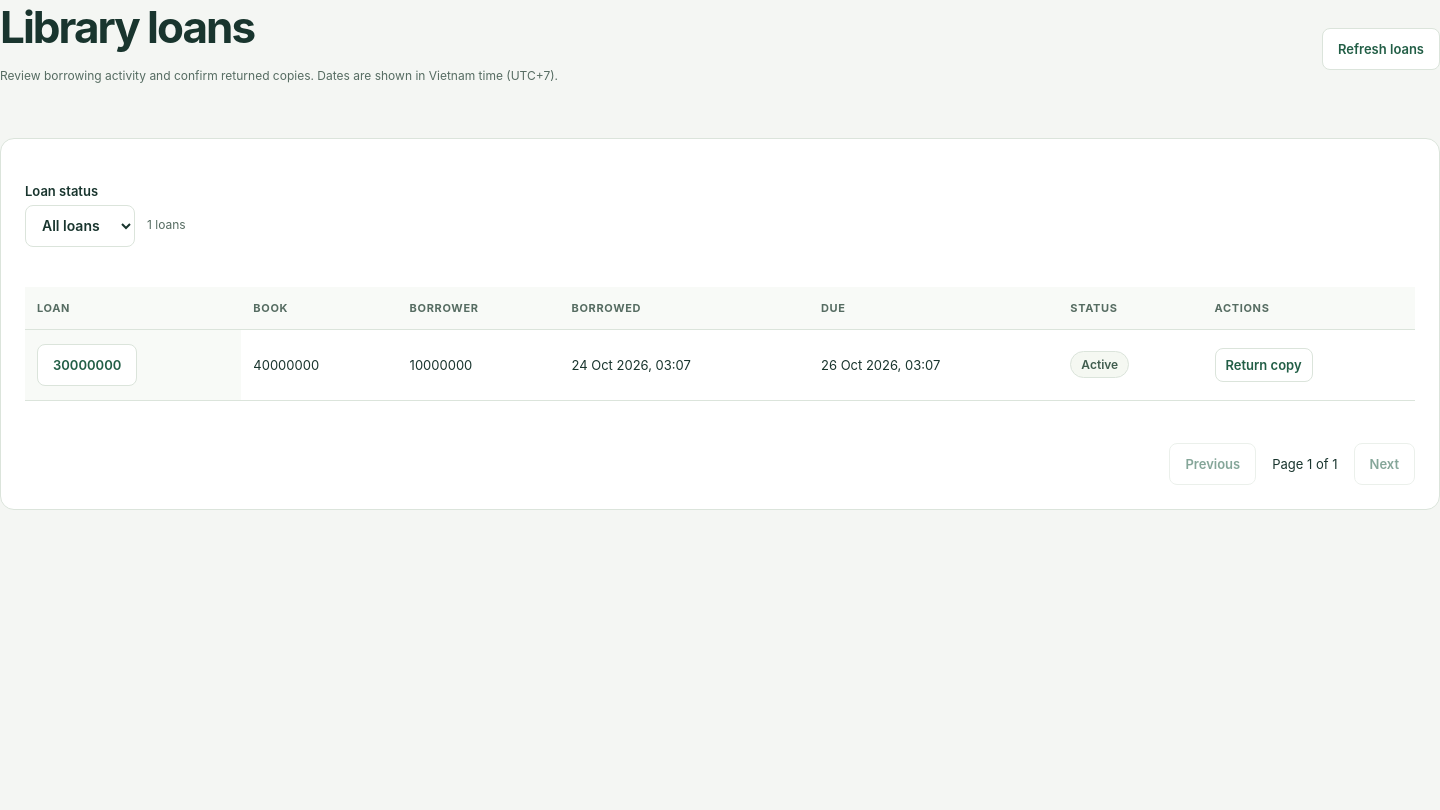
Test: loan history › keeps an unsuccessful return visible and does not retry the mutation automatically
Step 1. Click the button with aria-label "Return loan 30000000" → (1264, 365), box left=1214, top=348, right=1313, bottom=382
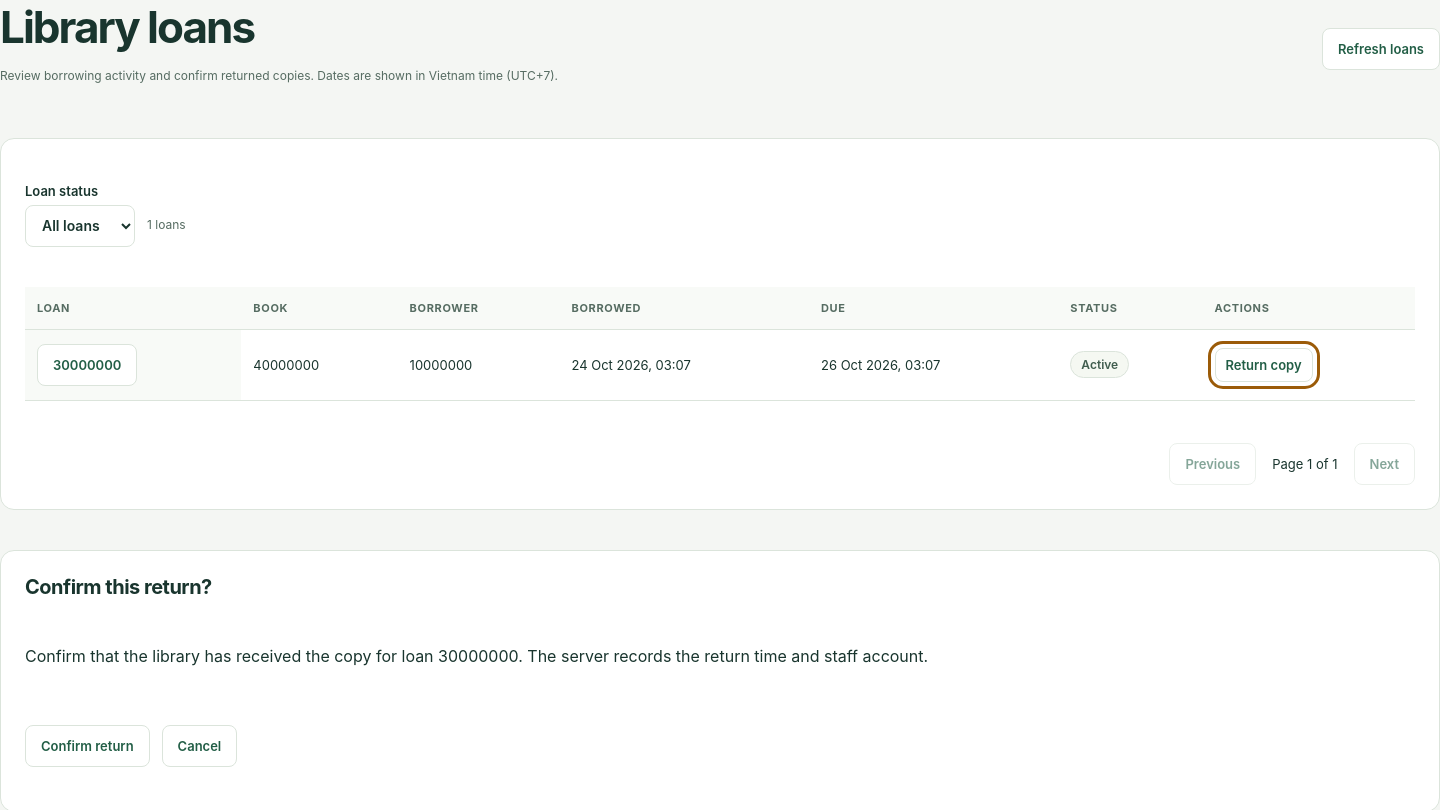
Step 2. Click the button "Confirm return" → (87, 746), box left=25, top=725, right=150, bottom=767
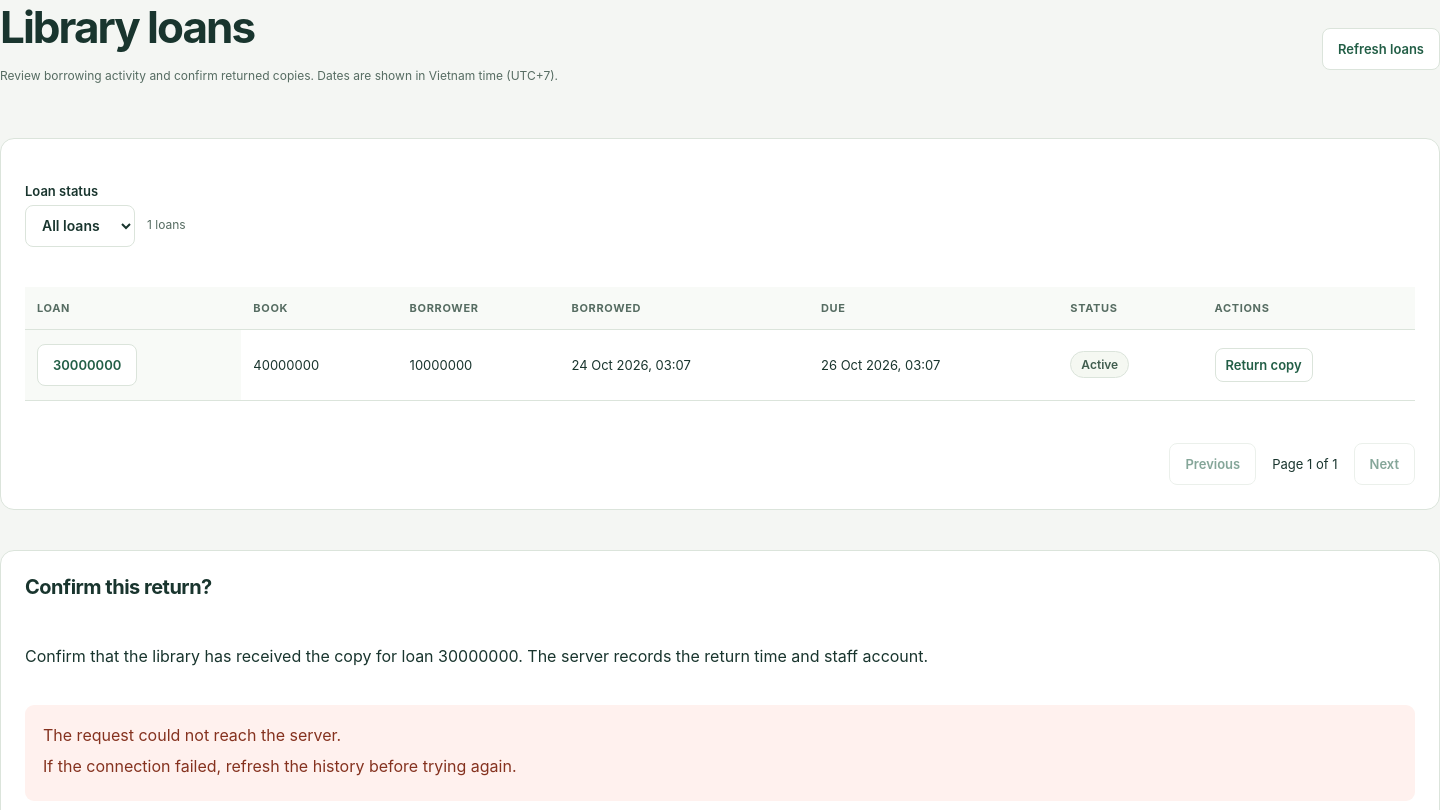
Expected: the message shows "The request could not reach the server.", left=43, top=725, right=341, bottom=745
